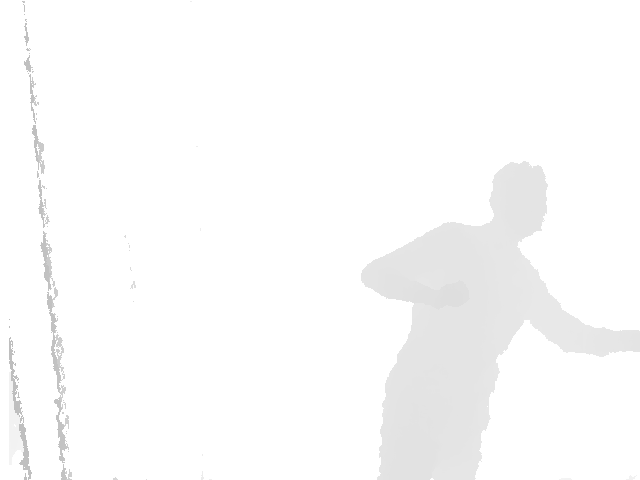head: (489, 161, 547, 241)
person: (360, 161, 640, 480)
